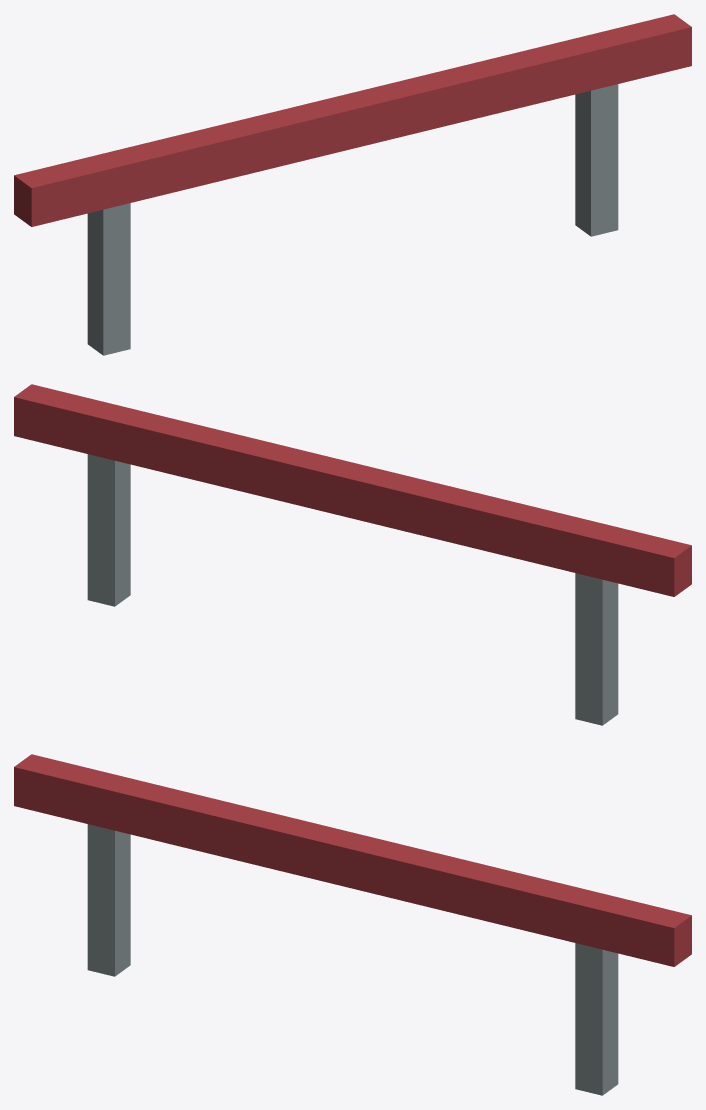
Rendered from wk_state_market_shortage_v01.glb.
The picture shows the model from 3 angles, top to bottom: view 1: azimuth 30°, elevation 25°; view 2: azimuth 150°, elevation 25°; view 3: azimuth 330°, elevation 25°; orthographic projection.
Visible parts, largest first — view 1: GEO_RationBar, GEO_RationPost+1, GEO_RationPost-1; view 2: GEO_RationBar, GEO_RationPost+1, GEO_RationPost-1; view 3: GEO_RationBar, GEO_RationPost-1, GEO_RationPost+1.
Part boxes in pixels (left/top/right/bottom): GEO_RationBar: left=14, top=14, right=691, bottom=226; GEO_RationPost+1: left=575, top=84, right=618, bottom=236; GEO_RationPost-1: left=87, top=203, right=130, bottom=355; GEO_RationBar: left=14, top=384, right=691, bottom=596; GEO_RationPost+1: left=87, top=454, right=130, bottom=606; GEO_RationPost-1: left=575, top=573, right=618, bottom=725; GEO_RationBar: left=14, top=754, right=691, bottom=966; GEO_RationPost-1: left=87, top=824, right=130, bottom=976; GEO_RationPost+1: left=575, top=943, right=618, bottom=1095.
Bounding box in the file's own units: 1.95 × 0.525 × 0.09.
